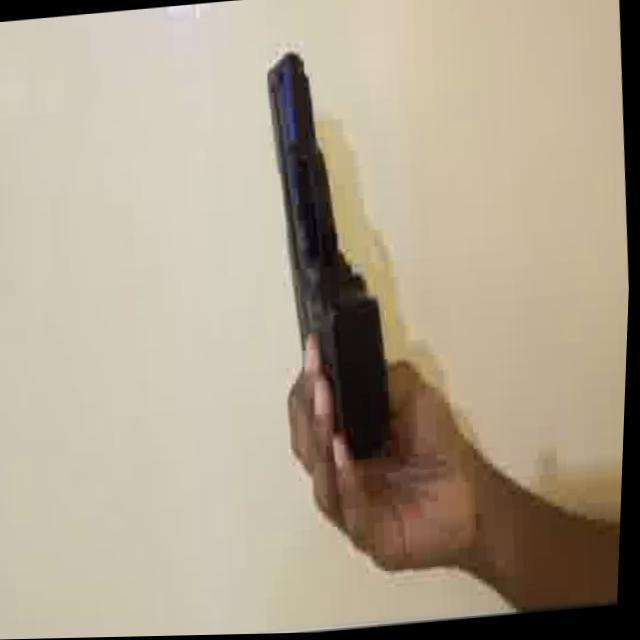weapon: (253, 39, 408, 468)
